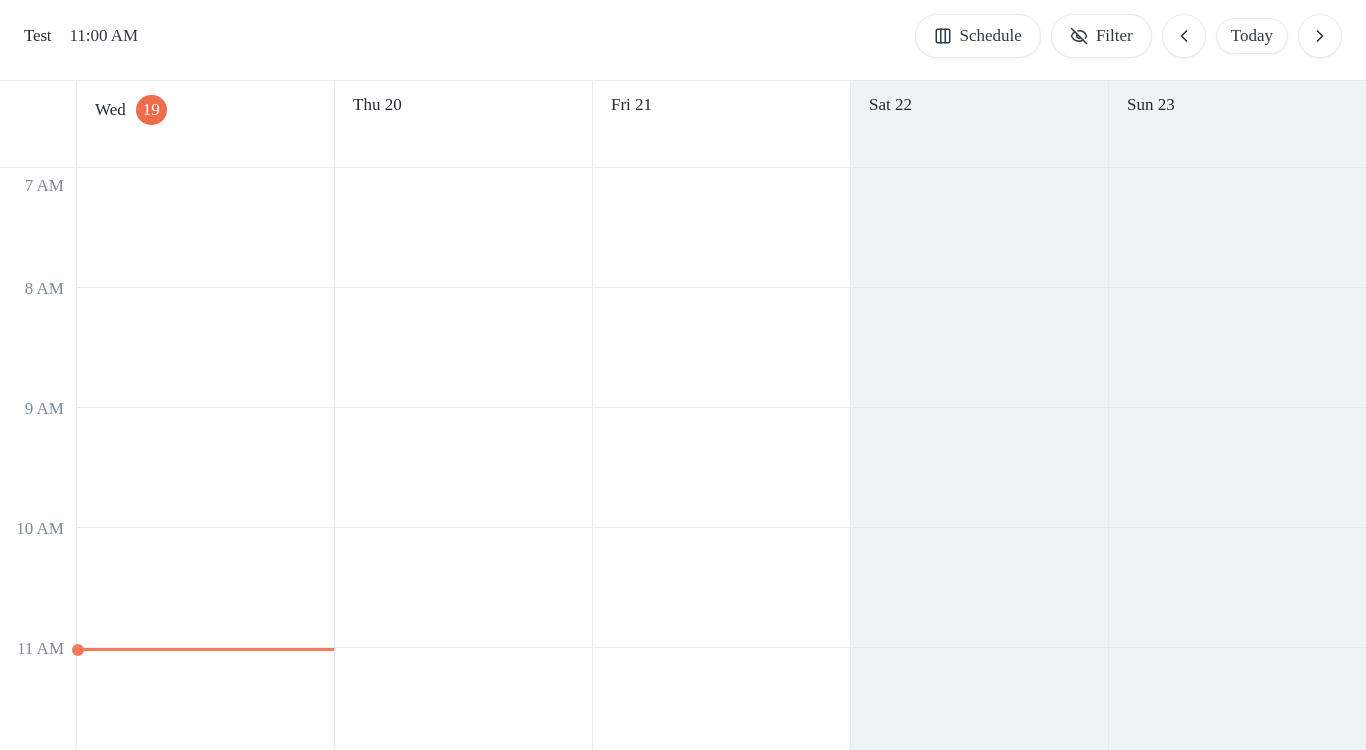
CalendarScreen Five-Day View › previous and next move five Household dates and Today restores
The image size is (1366, 750).
Expected: the button "Today" is shown, x1=1216 y1=18 x2=1288 y2=54
Click the button named "Next five days". click: (1320, 36)
box: x1=1298 y1=14 x2=1342 y2=58
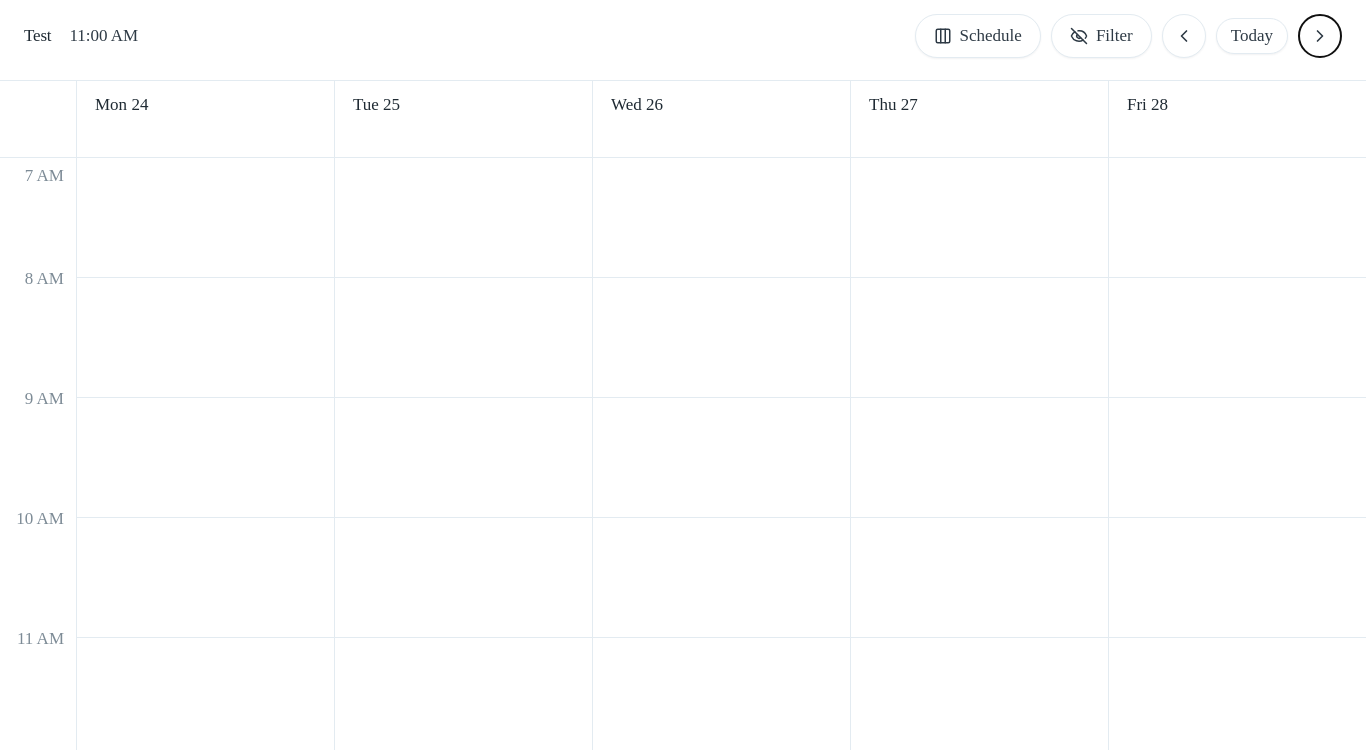
Result: the text "Mon 24" is shown at x1=95 y1=95 x2=148 y2=115
Result: the text "Fri 28" is shown at x1=1127 y1=95 x2=1168 y2=115
Click the button named "Previous five days". click: (1184, 36)
box: x1=1162 y1=14 x2=1206 y2=58
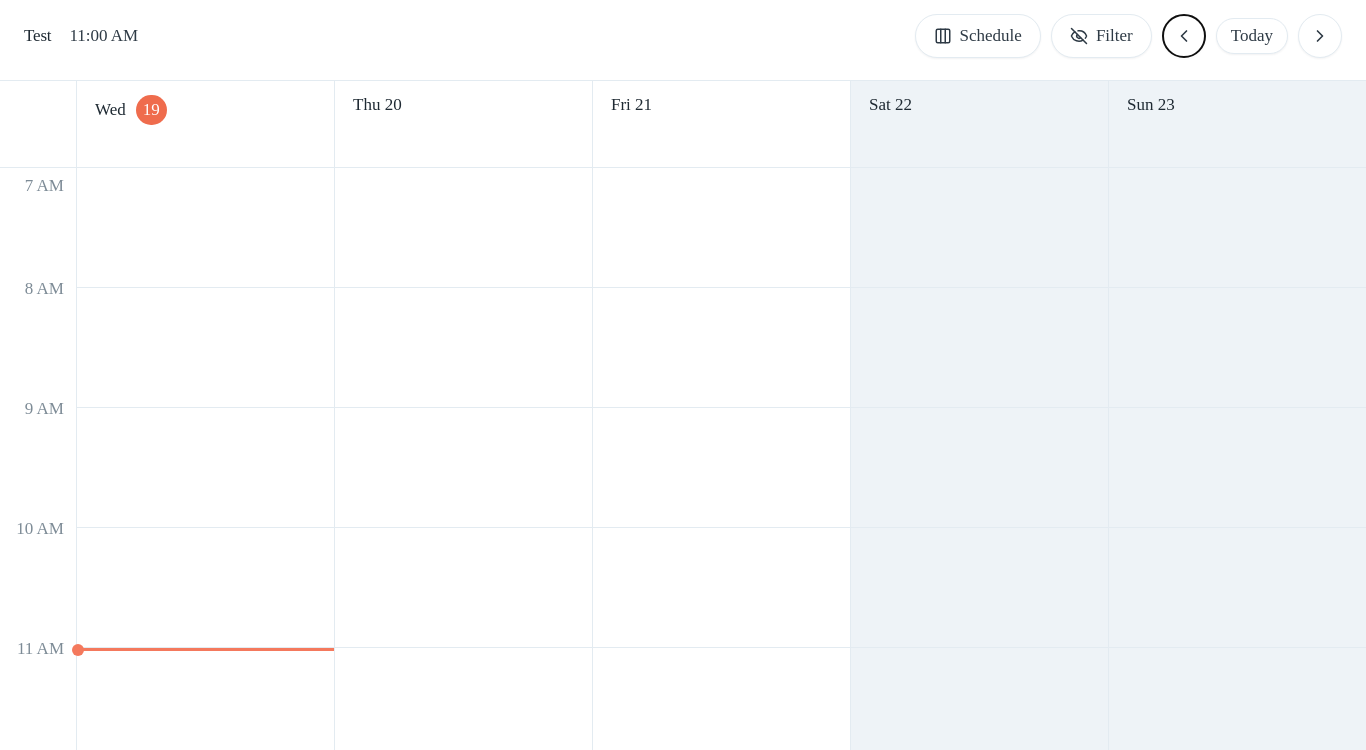
Expected: the text "Wed" is shown, x1=95 y1=100 x2=126 y2=120
Result: the text "Sun 23" is shown at x1=1127 y1=95 x2=1175 y2=115
Click the button named "Next five days". click: (1320, 36)
box: x1=1298 y1=14 x2=1342 y2=58
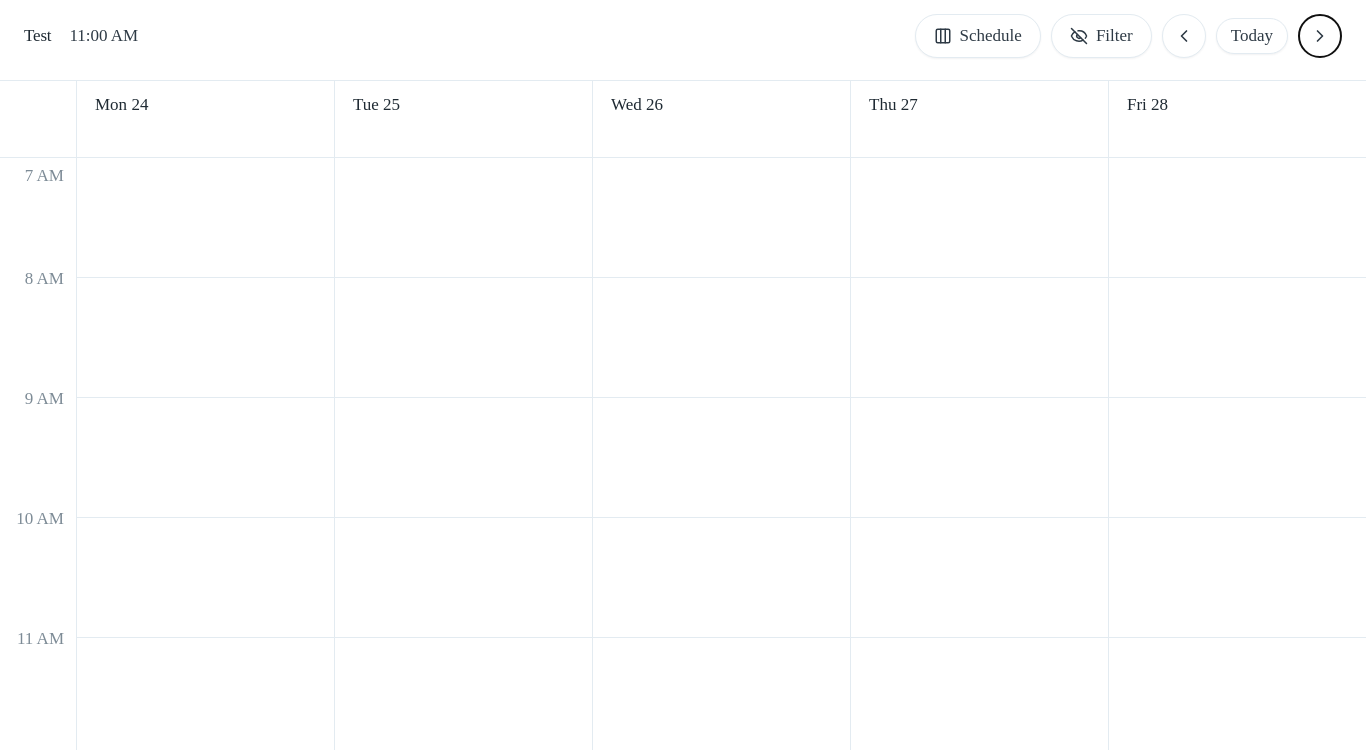
Result: the text "Mon 24" is shown at x1=95 y1=95 x2=148 y2=115
Click the button "Today". click: (1252, 36)
box: x1=1216 y1=18 x2=1288 y2=54
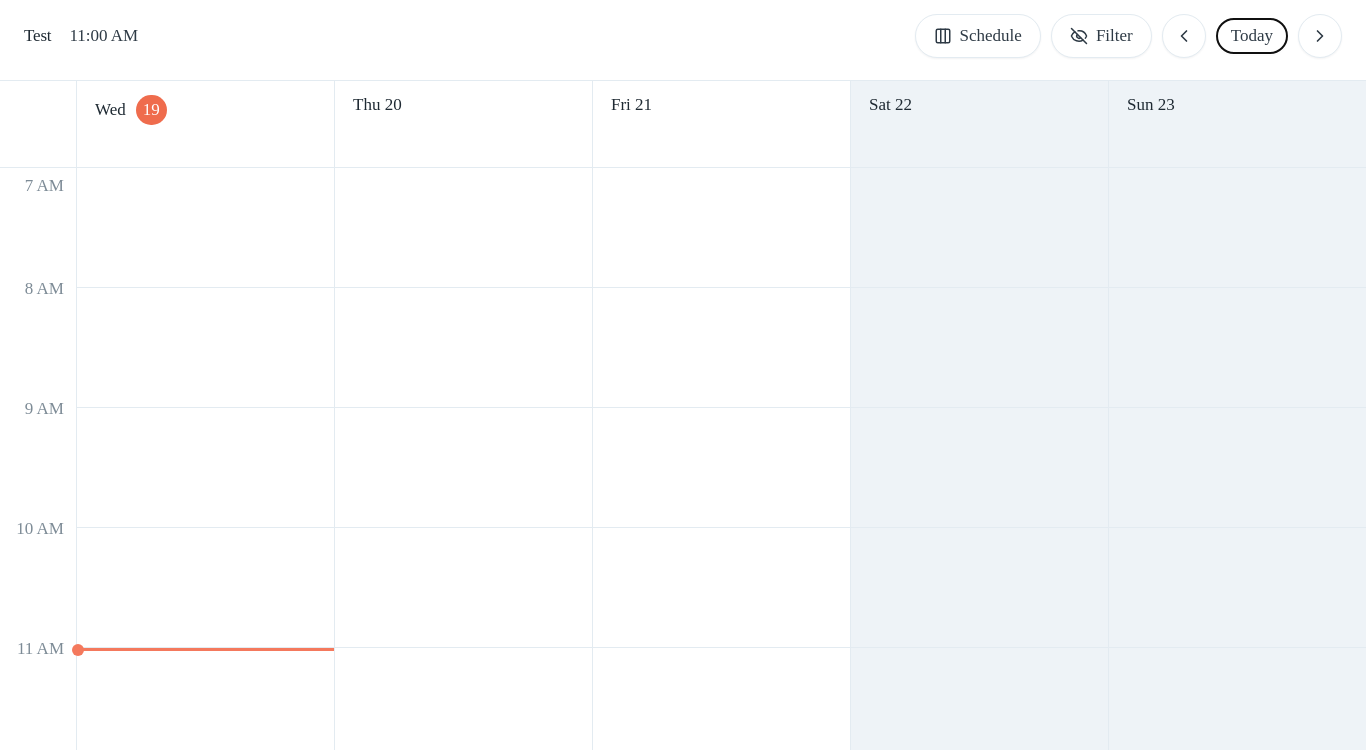
Expected: the text "Wed" is shown, x1=95 y1=100 x2=126 y2=120
Result: the text "Sun 23" is shown at x1=1127 y1=95 x2=1175 y2=115
